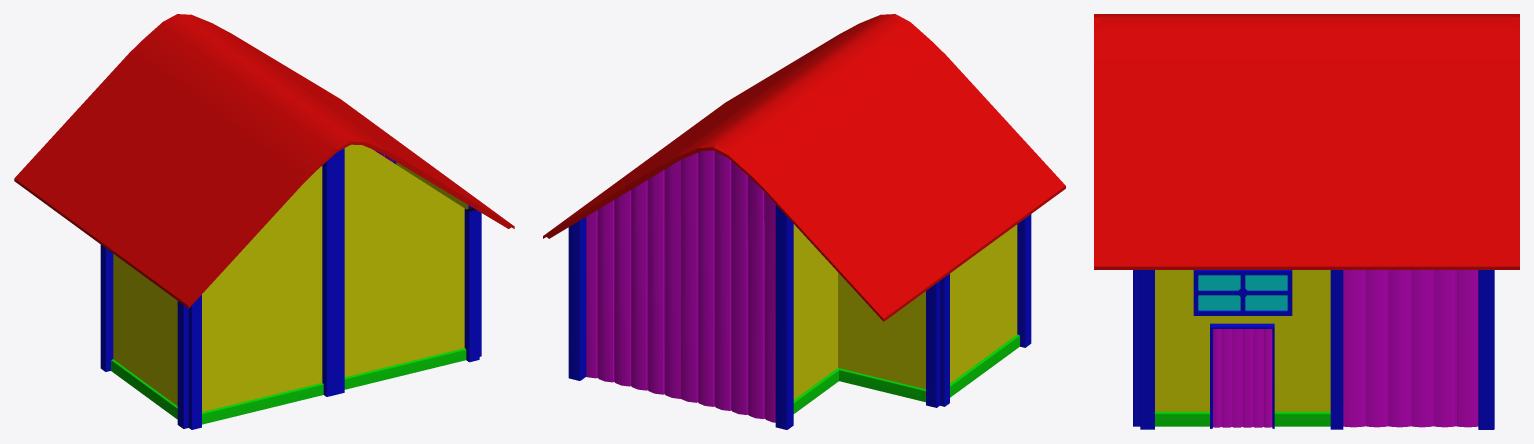
The model's file is House 2 Model.fbx.
3 renders of one model, left to right at view 1: azimuth 30°, elevation 25°; view 2: azimuth 150°, elevation 25°; view 3: azimuth 270°, elevation 25°, orthographic. The views are drawn at different scales.
Visible parts, largest first — view 1: House2_Combined1; view 2: House2_Combined1; view 3: House2_Combined1.
Part boxes in pixels (left/top/right/bottom): House2_Combined1: left=14, top=14, right=514, bottom=429; House2_Combined1: left=543, top=14, right=1065, bottom=429; House2_Combined1: left=1094, top=14, right=1519, bottom=429.
Bounding box in the file's own units: 6.79 × 5.28 × 6.29.
